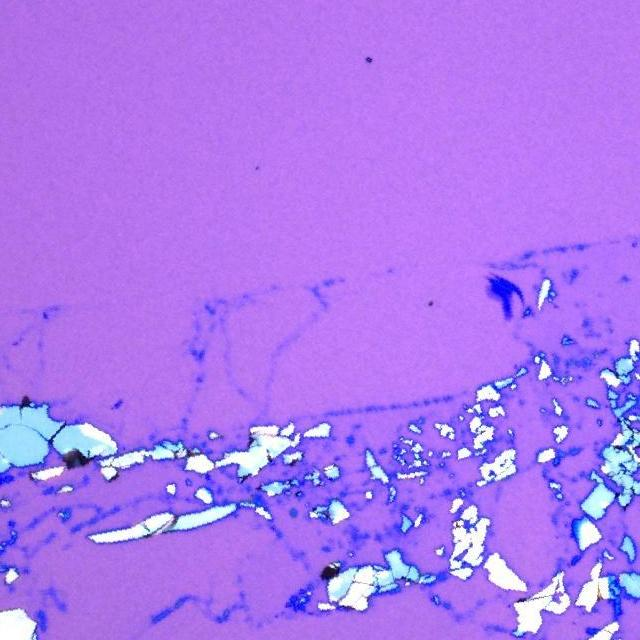monolayer-eWW4: (486, 285, 500, 300)
